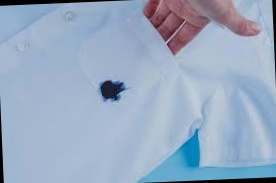ink: (99, 80, 125, 103)
